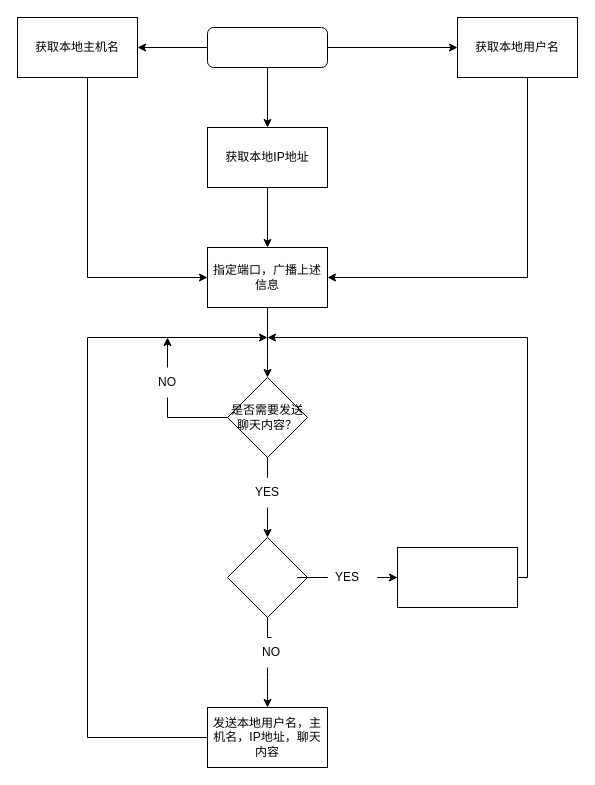
This 595x785 diagram has some shape labels left out. Each missing label, with the centre of its shape:
"发送内容是否为空？" goes at (267,577).
"登录软件" goes at (267,47).
"空消息处理" goes at (457,577).
